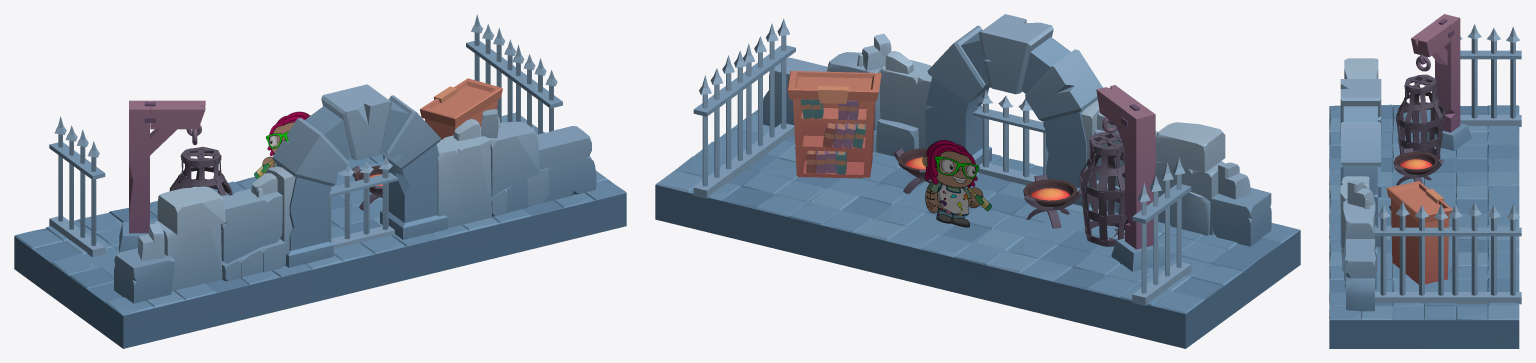
File: diorama.glb
3 views of the same model, side by side, from view 1: azimuth 30°, elevation 25°; view 2: azimuth 150°, elevation 25°; view 3: azimuth 270°, elevation 25° (orthographic). The views are drawn at different scales.
Visible parts, largest first — view 1: diorama; view 2: diorama; view 3: diorama.
Boxes of the visible parts, x1,y1,x2,y2 form: diorama: (14, 14, 626, 348); diorama: (655, 14, 1300, 348); diorama: (1329, 14, 1521, 348).
Size of the model in its own units: 16.03 by 5.35 by 6.08.
Materials: 2 (2 with a texture image).
